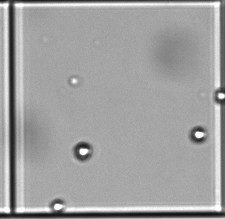Living Cell: (72, 142, 92, 161), (191, 126, 206, 143), (51, 199, 64, 214)
